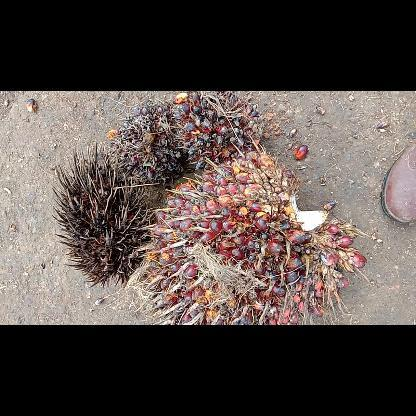Janjang kosong: (48, 138, 156, 289)
TBS abnormal: (169, 91, 265, 169), (109, 98, 191, 186)
TBS masak: (122, 148, 368, 324)
